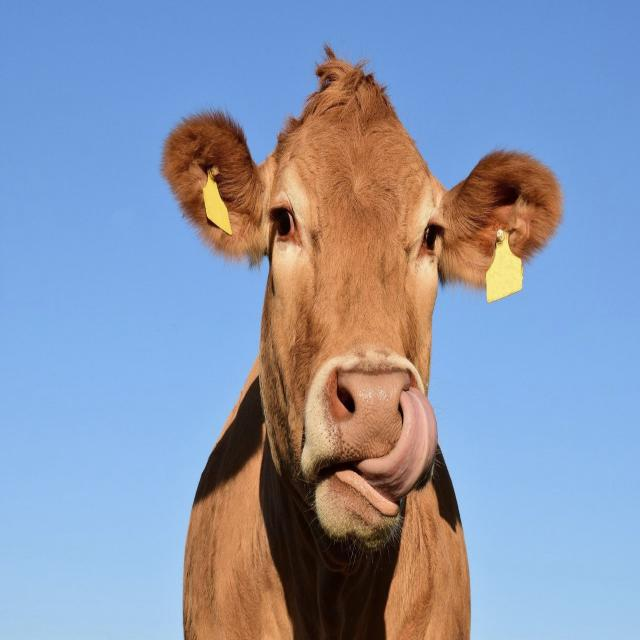cow: (163, 47, 563, 639)
